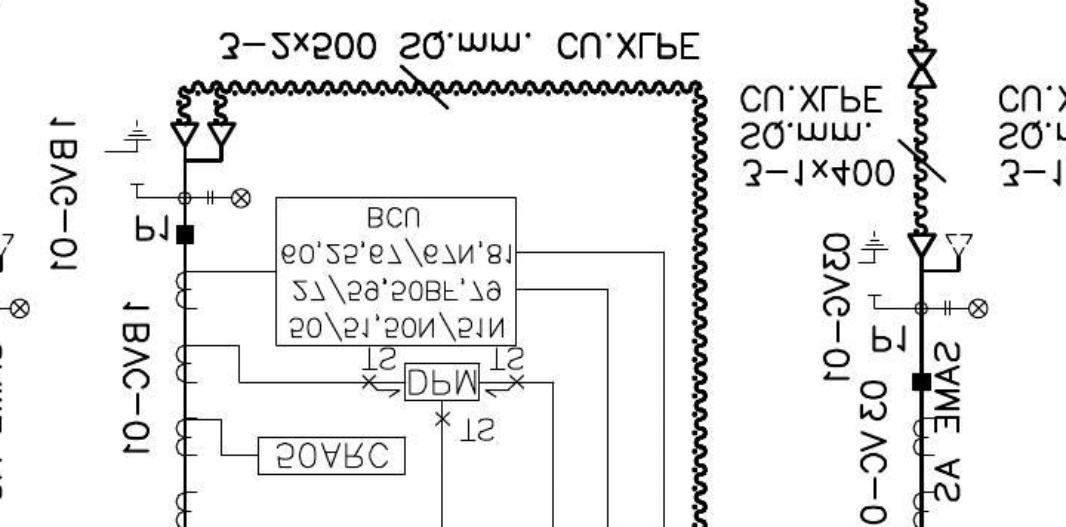22_gs: (103, 120, 154, 188), (856, 231, 890, 298)
22_ll: (943, 297, 990, 320), (206, 187, 252, 209)
DPM: (402, 361, 481, 403)
terminator_double: (168, 121, 238, 164)
terminator_splicing_kits: (906, 48, 937, 90)
terminator_w_future: (906, 232, 976, 275)
